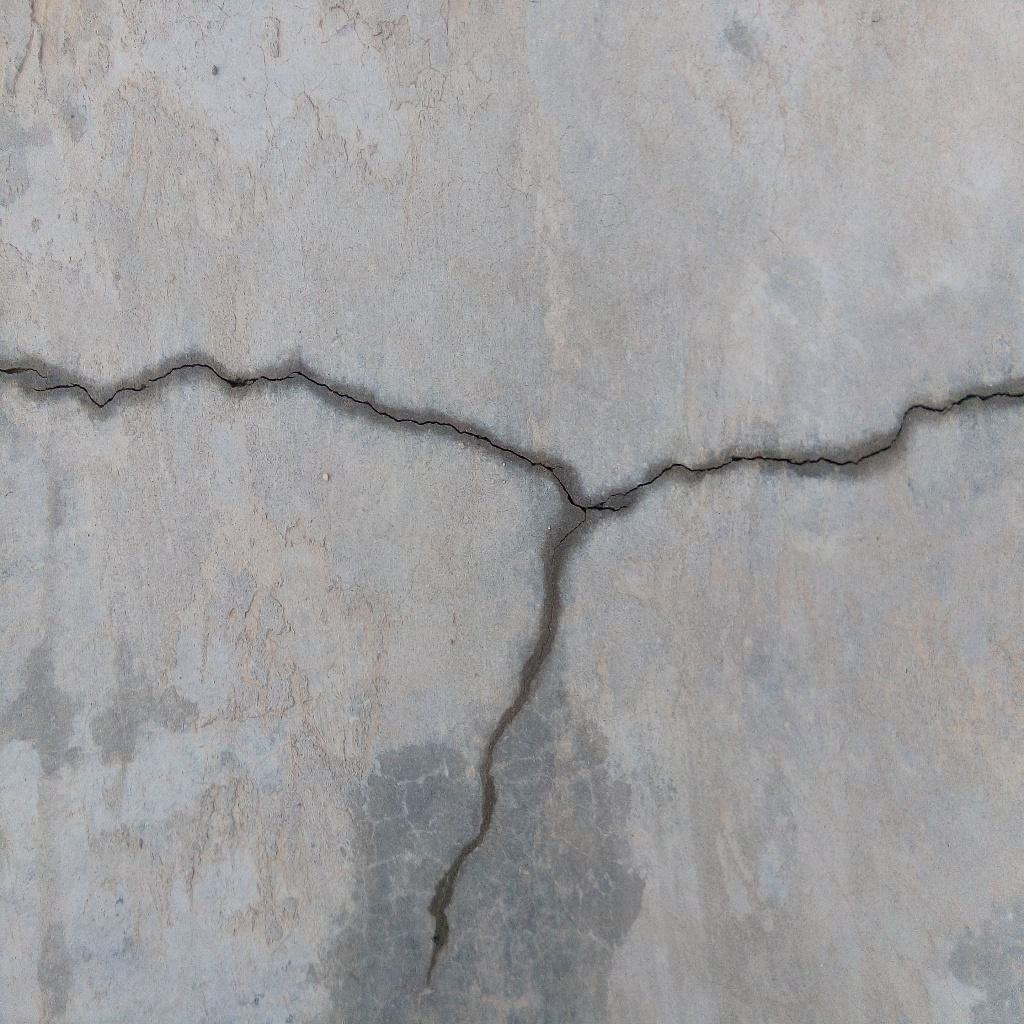Crack: (1, 363, 585, 510), (427, 509, 586, 986), (585, 390, 1024, 510)
